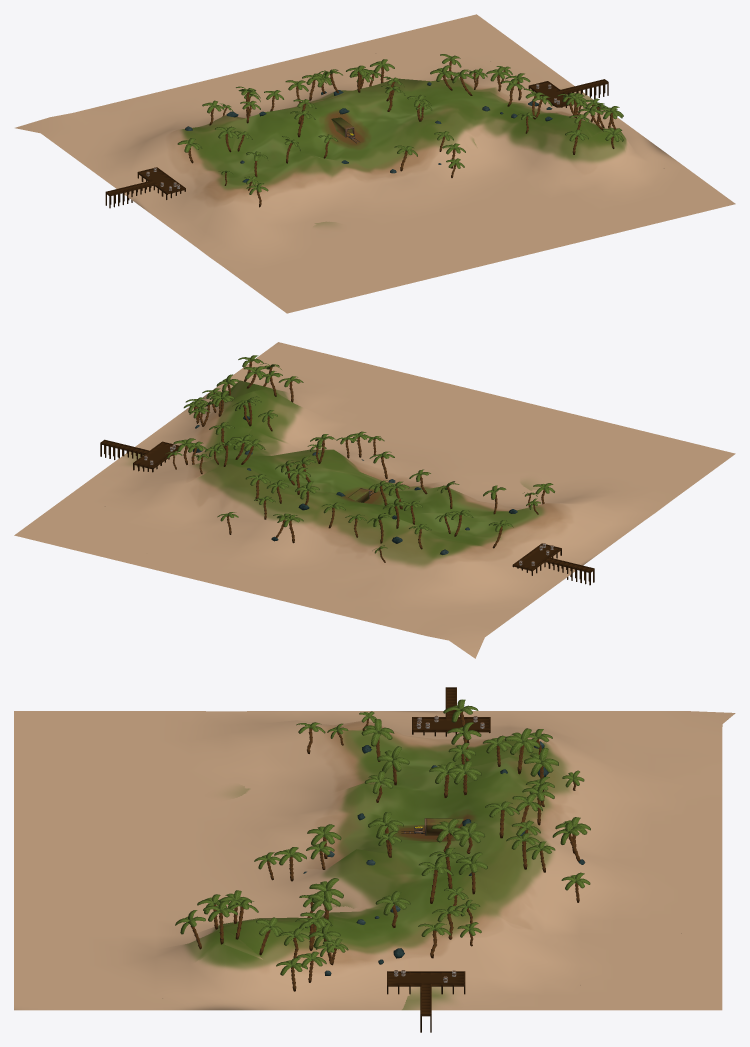
The model's file is island6.fbx.
3 views of the same model, one above another, from view 1: azimuth 30°, elevation 25°; view 2: azimuth 150°, elevation 25°; view 3: azimuth 270°, elevation 25° (orthographic). The views are drawn at different scales.
Visible parts, largest first — view 1: Island6; view 2: Island6; view 3: Island6.
Part boxes in pixels (<box>): Island6: <box>15,14,735,313</box>; Island6: <box>14,342,735,658</box>; Island6: <box>14,687,735,1032</box>.
Size of the model in its own units: 1417 by 168 by 1324.
